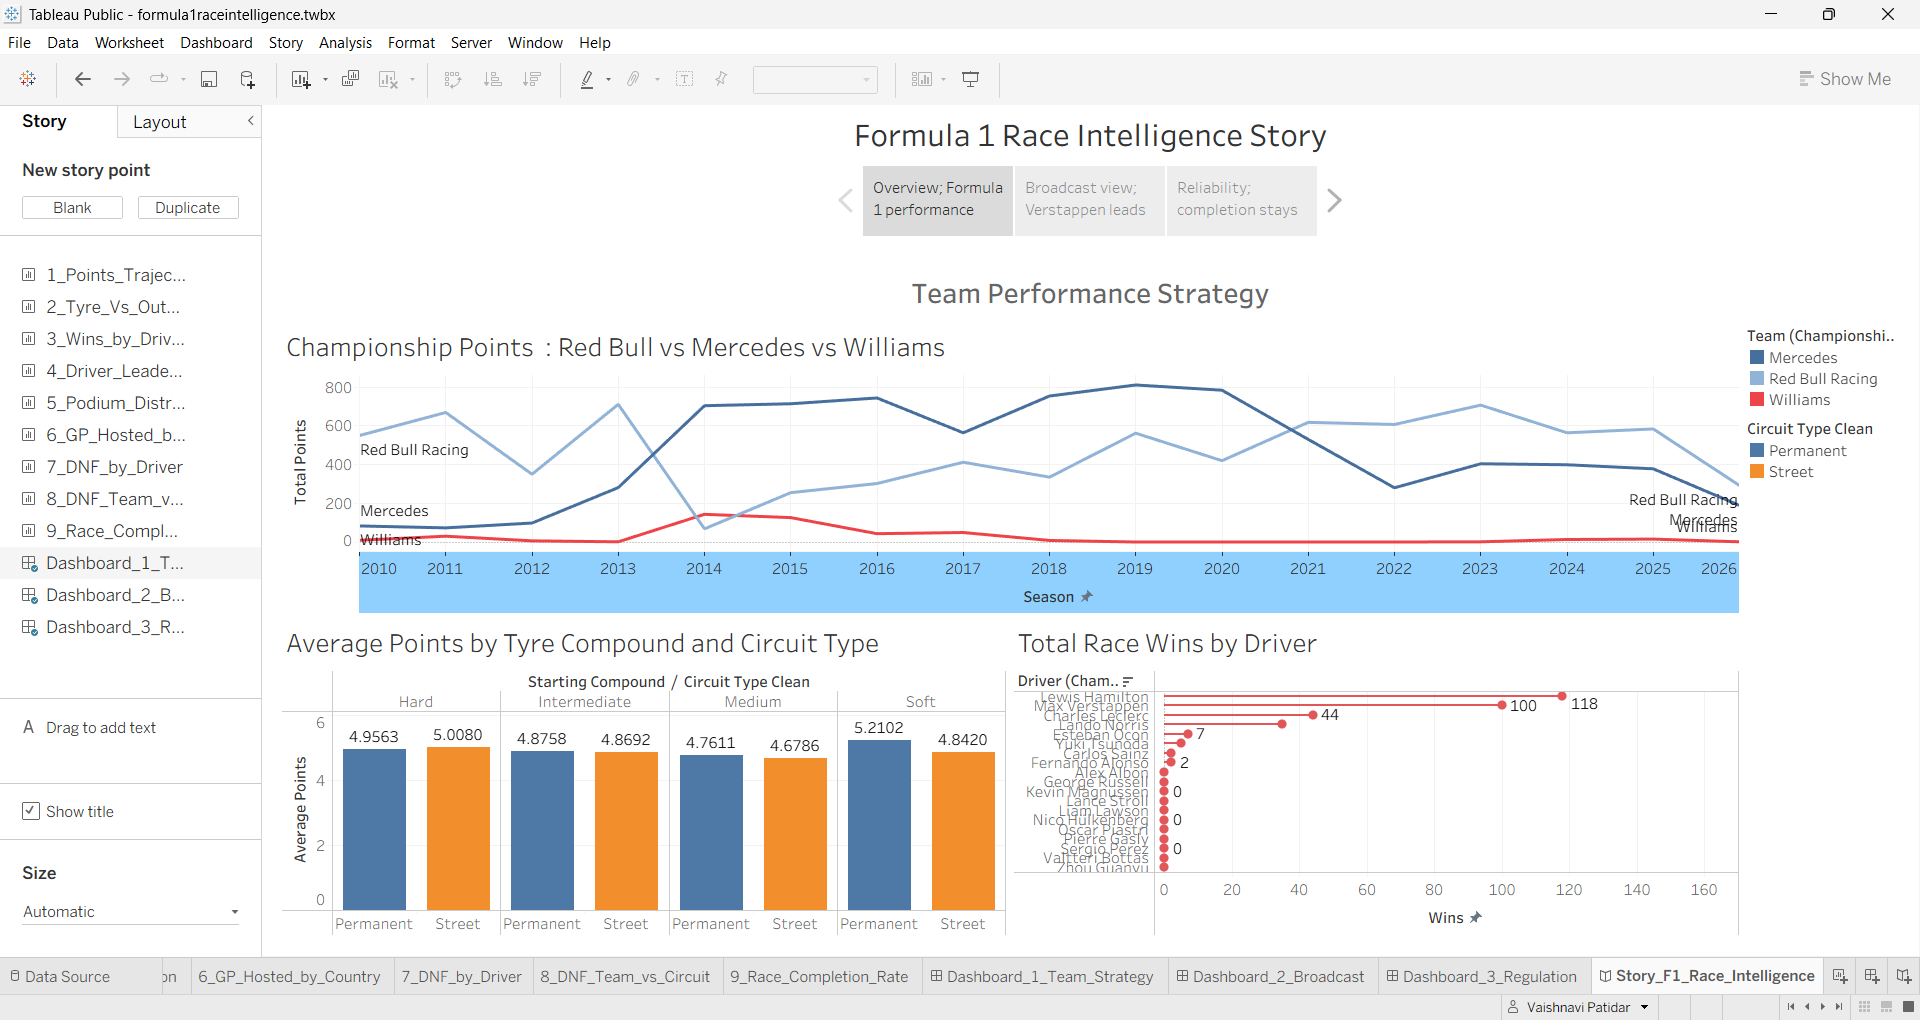

Layout of this report page (visuals, bound fields, positions):
{"tool":"tableau","page":{"name":"Dashboard_1_Team_Strategy","canvas":[1000,1000],"units":"permille","ordinal":0},"visuals":[{"type":"text","box":[4.9,10,990.2,82.2]},{"type":"worksheet","title":"1_Points_Trajectory","mark":"Automatic","rows":["points (championship!standings)"],"cols":["season (championship!standings)"],"box":[4.9,92.2,891.9,430]},{"type":"legend","title":"1_Points_Trajectory","param":"[federated.16xycoi09t615k0zn9l631br8ulf].[none:team (championship!standings):nk]","box":[896.8,92.2,98.3,116.7]},{"type":"legend","title":"2_Tyre_Vs_Outcome","param":"[federated.16xycoi09t615k0zn9l631br8ulf].[none:Calculation_1331020857790468:nk]","box":[896.8,208.9,98.3,90.3]},{"type":"worksheet","title":"2_Tyre_Vs_Outcome","mark":"Bar","rows":["points"],"cols":["starting_compound","Calculation_1331020857790468"],"box":[4.9,522.2,445.9,467.7]},{"type":"worksheet","title":"3_Wins_by_Driver","mark":"Circle","rows":["driver (championship!standings)"],"cols":["wins","wins"],"box":[450.9,522.2,445.9,467.7]}]}

Visuals, with their boxes on the dashboard's canvas, which has no fixed pixel size, in thousandths of its width and height (x1, y1, x2, y2). These are canvas units, not pixel positions in the 1920x1020 screenshot, which may show the page scaled, cropped or inside an application window:
text: l=5, t=10, r=995, b=92
"1_Points_Trajectory" worksheet: l=5, t=92, r=897, b=522
"1_Points_Trajectory" legend: l=897, t=92, r=995, b=209
"2_Tyre_Vs_Outcome" legend: l=897, t=209, r=995, b=299
"2_Tyre_Vs_Outcome" worksheet (Bar marks): l=5, t=522, r=451, b=990
"3_Wins_by_Driver" worksheet (Circle marks): l=451, t=522, r=897, b=990
